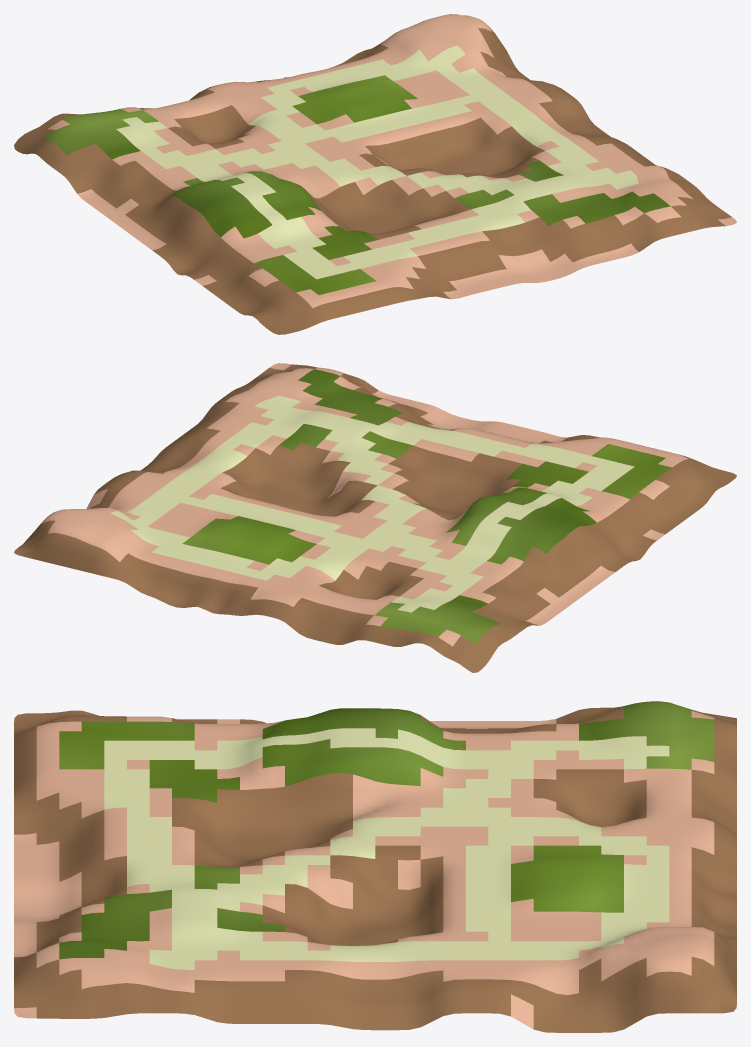
Rendered from ground.fbx.
3 renders of one model, top to bottom at view 1: azimuth 30°, elevation 25°; view 2: azimuth 150°, elevation 25°; view 3: azimuth 270°, elevation 25°, orthographic. The views are drawn at different scales.
Parts seen in each view (by area): view 1: Plane; view 2: Plane; view 3: Plane.
Part boxes in pixels (box(x1,y1,x2,y2)): Plane: box(14, 14, 736, 334); Plane: box(14, 363, 736, 672); Plane: box(14, 701, 736, 1032).
Bounding box in the file's own units: 10000 × 905 × 10000.
